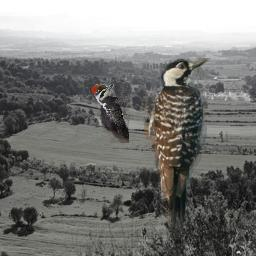Woodpecker: (132, 58, 212, 240), (90, 83, 129, 143)
